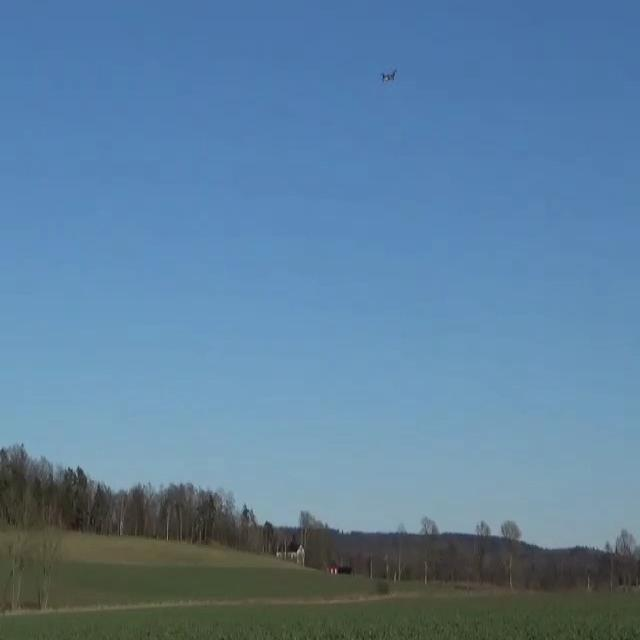drone: (380, 70, 398, 82)
